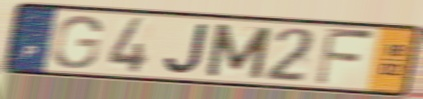2: (263, 26, 317, 83)
4: (107, 16, 151, 75)
F: (312, 25, 377, 88)
G: (50, 14, 105, 71)
J: (162, 21, 211, 76)
M: (203, 21, 275, 81)
